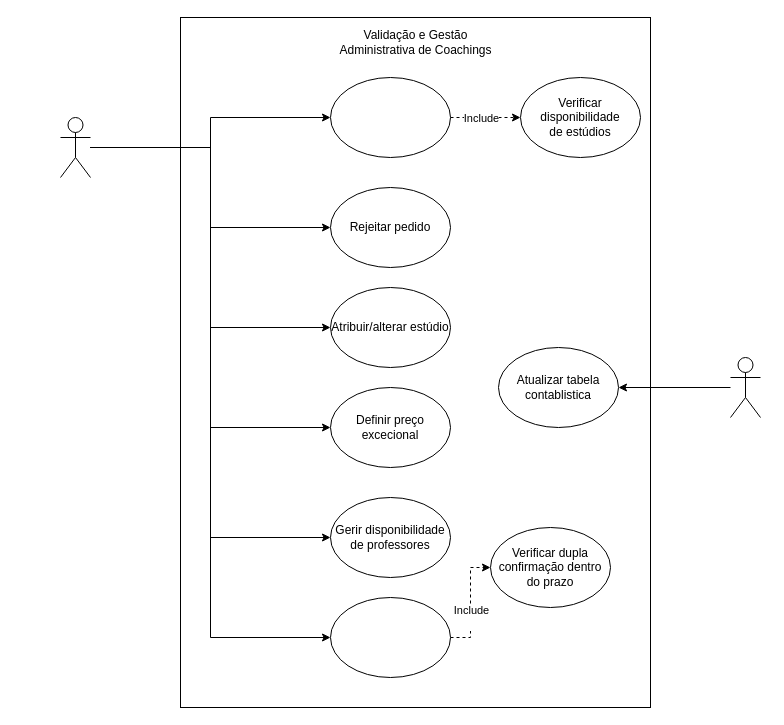
Image size: 784x725. Some labels were removed from this diagram. The shapes that lost their labels are listed below. From the top down, each one's centre as x and y in pixels, then its label:
At pixel 390 117: "Validar pedido de coaching".
At pixel 75 147: "Coordenação/Direção".
At pixel 745 387: "Sistema".
At pixel 390 637: "Validar finalização".
